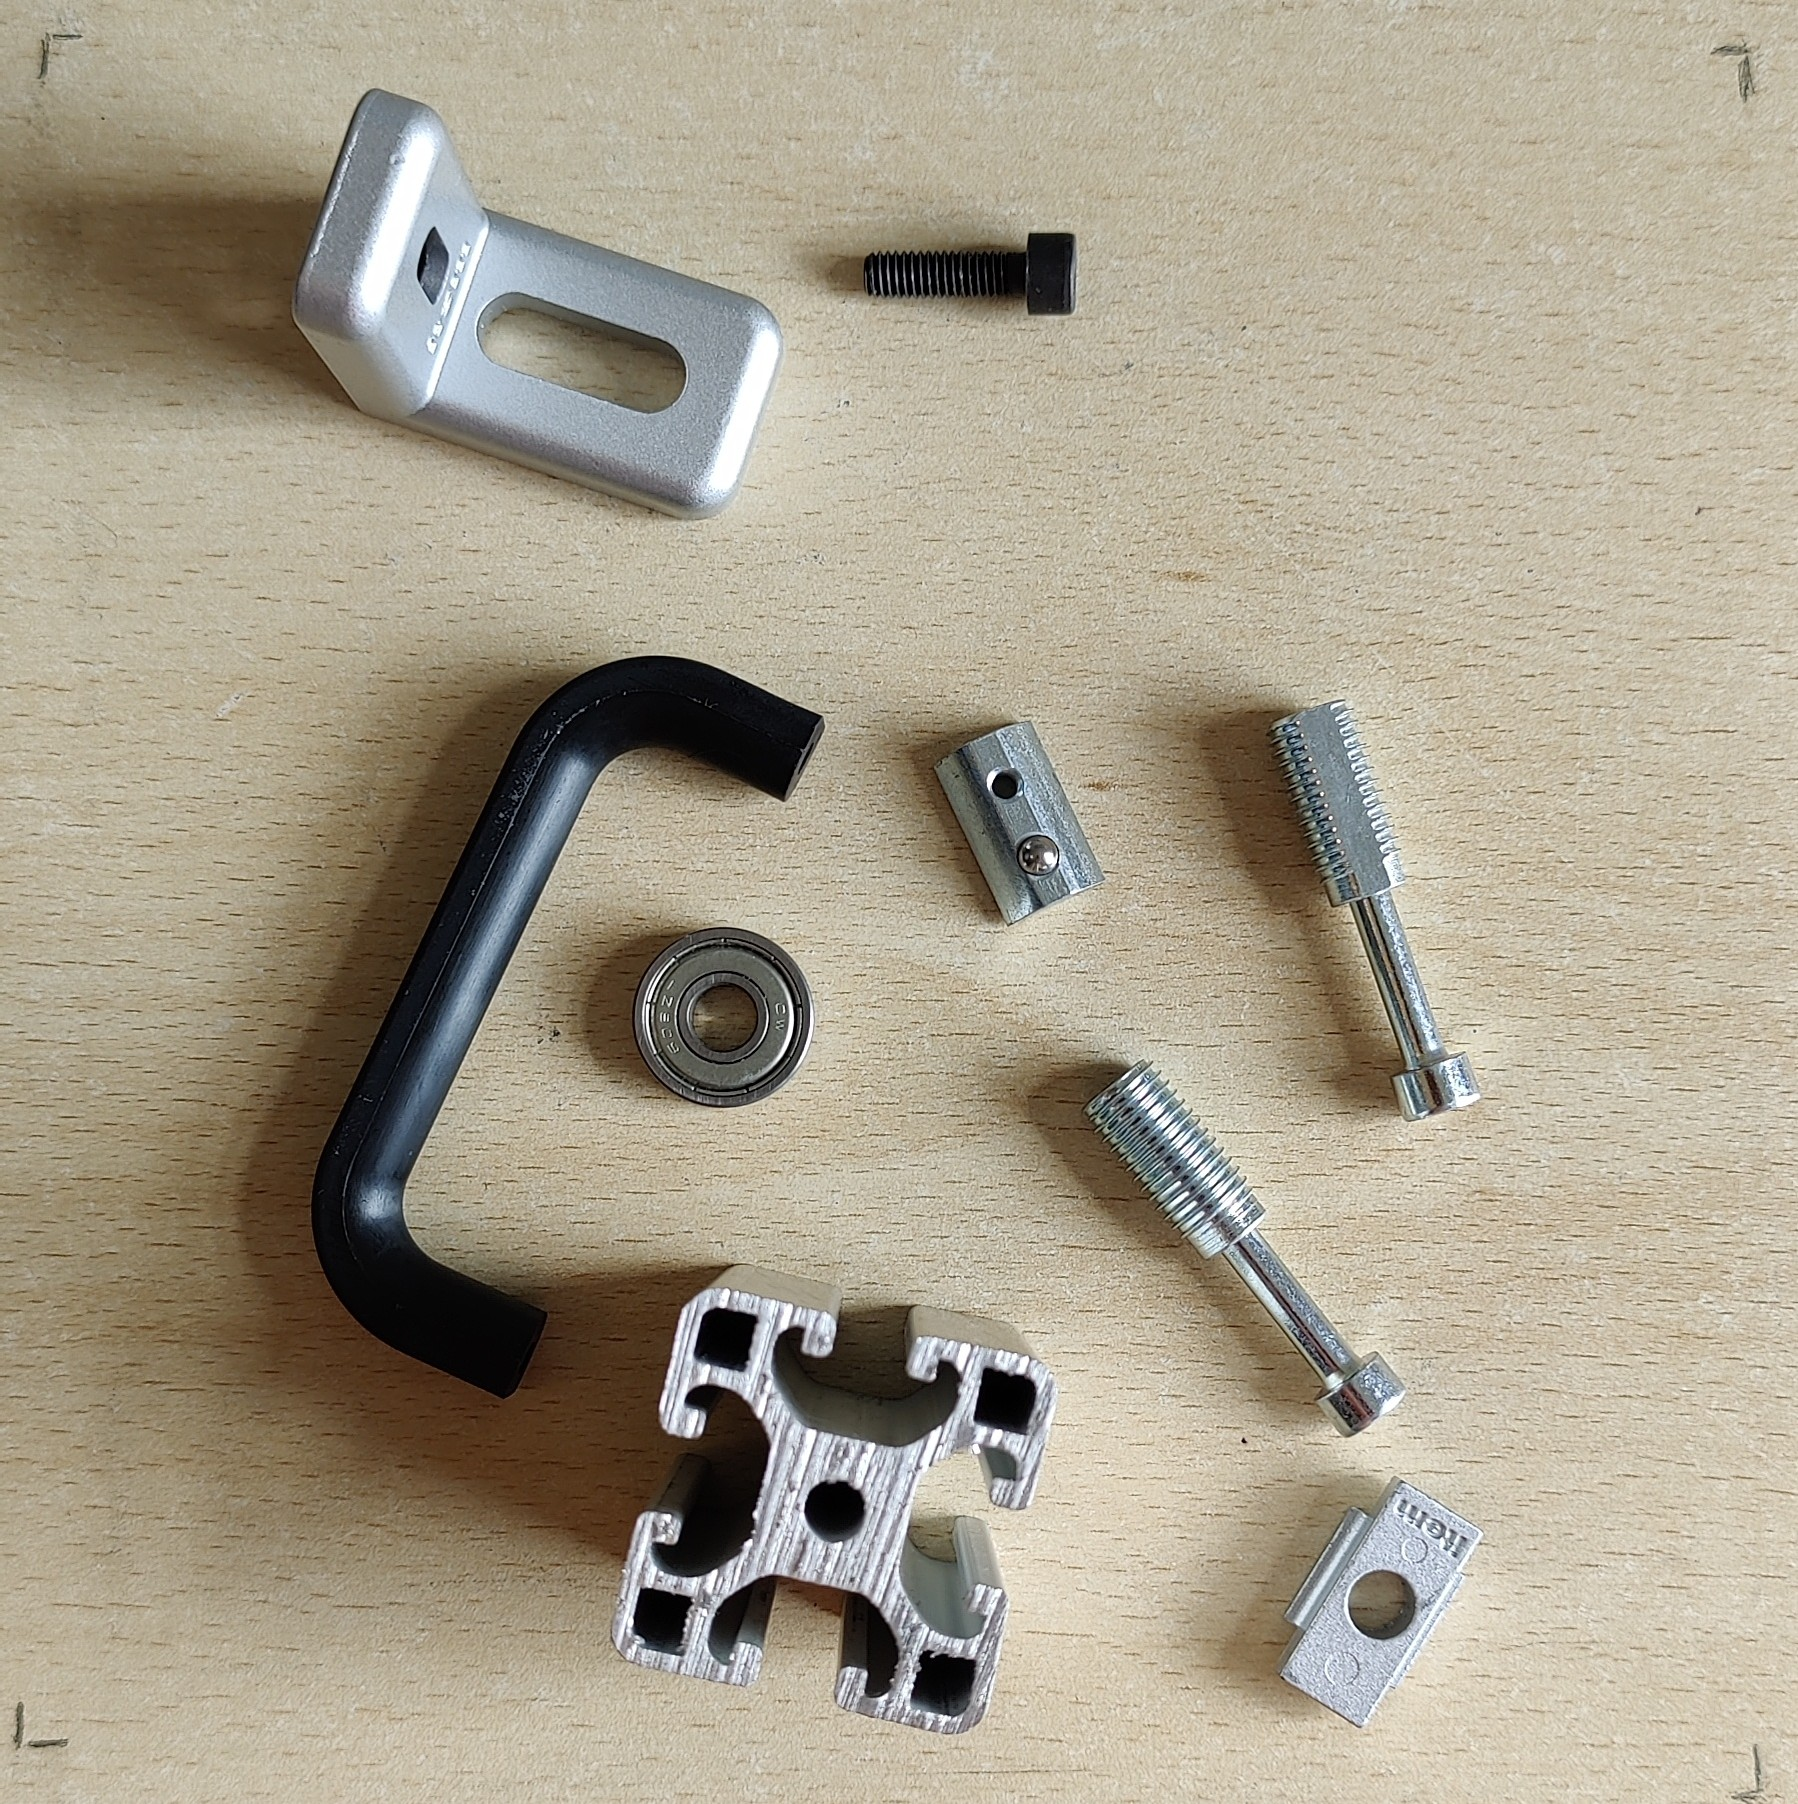Aluminium Extension: (606, 1259, 1059, 1737)
Ball Bearing: (627, 927, 815, 1109)
Multiwinkel: (285, 81, 785, 523)
Pull Handle: (310, 653, 827, 1399)
Shoulder Socket Head Cap Screw: (1082, 1057, 1409, 1442), (1263, 696, 1482, 1124)
Socket Head Cap Screw: (856, 227, 1080, 318)
T Nut Square: (1273, 1470, 1484, 1733)
T Spring Nut: (932, 721, 1110, 930)
